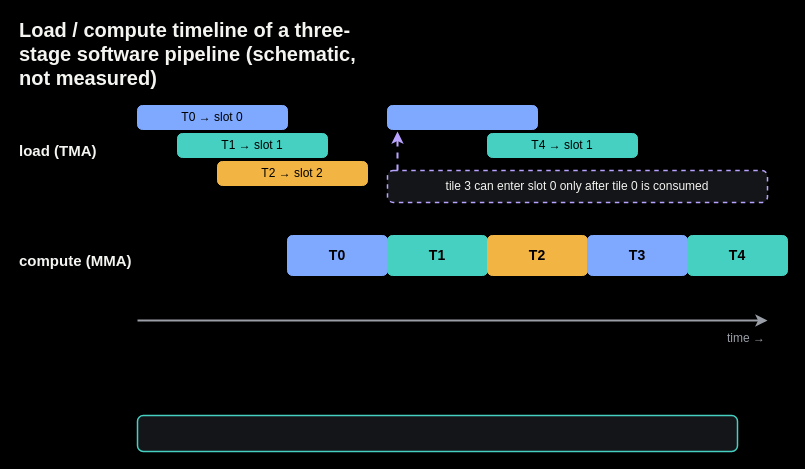
The diagram is 805 pixels wide and 469 high, and some of its shapes have lost their labels. The box of each missing label's shape, as (x1, y1, x2, y2) in pixels:
T3 → slot 0: (386, 104, 538, 130)
three slots ≠ three warp groups, not three kernels: (136, 414, 738, 452)
